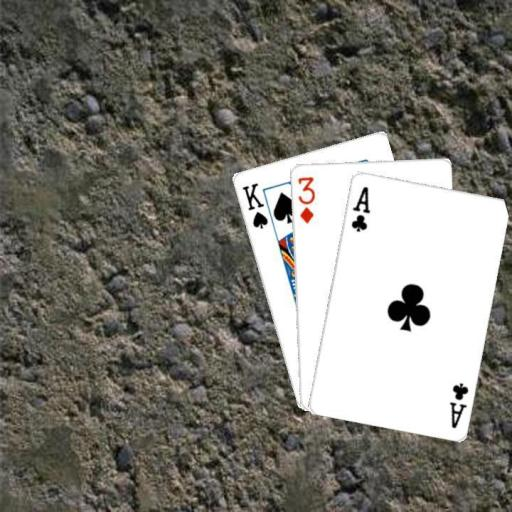card-corner: (238, 180, 270, 230), (446, 379, 469, 430), (348, 182, 371, 232), (294, 174, 316, 224)
